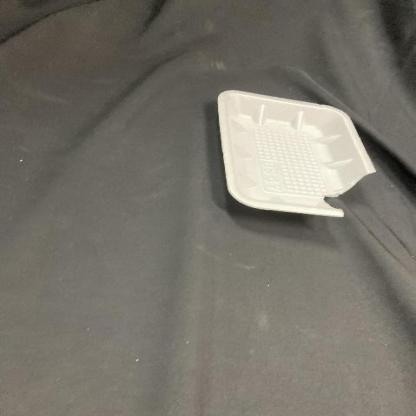Glass Cup: (217, 88, 379, 218), (218, 90, 377, 217)
